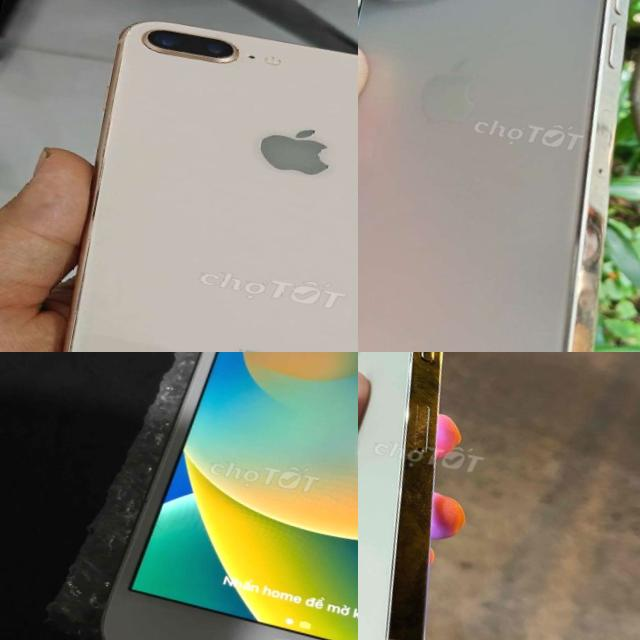gen_12_13: (358, 0, 640, 352)
gen_14: (358, 352, 531, 640)
gen_7_8: (26, 3, 358, 352), (81, 352, 358, 640)
scratch: (381, 396, 457, 510), (402, 352, 469, 381)
